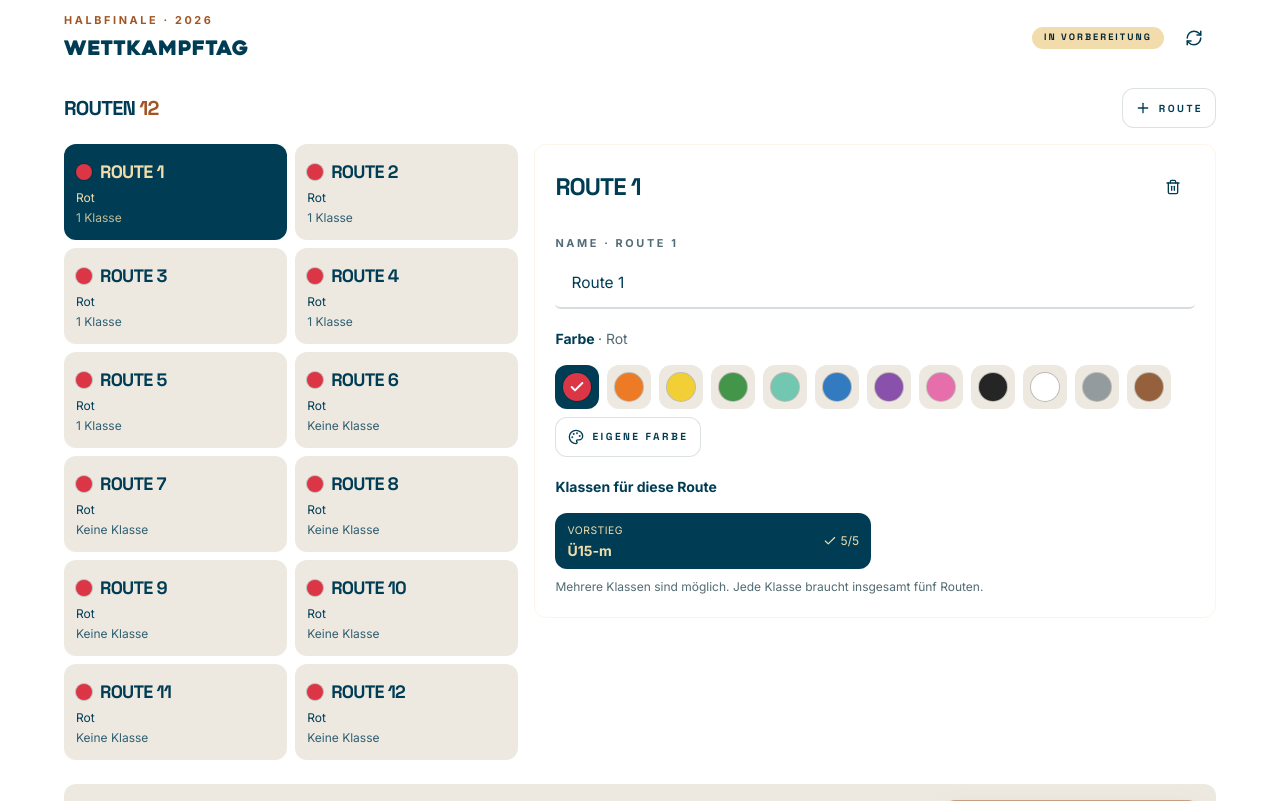
Test case: competition admin › limits a class to five routes and allows moving its assignment to another route
This screenshot has width=1280, height=801.
Later steps or results of the test are not shown.
Click the button with aria-label "Route 6 bearbeiten": (407, 400) x1=295 y1=352 x2=518 y2=448
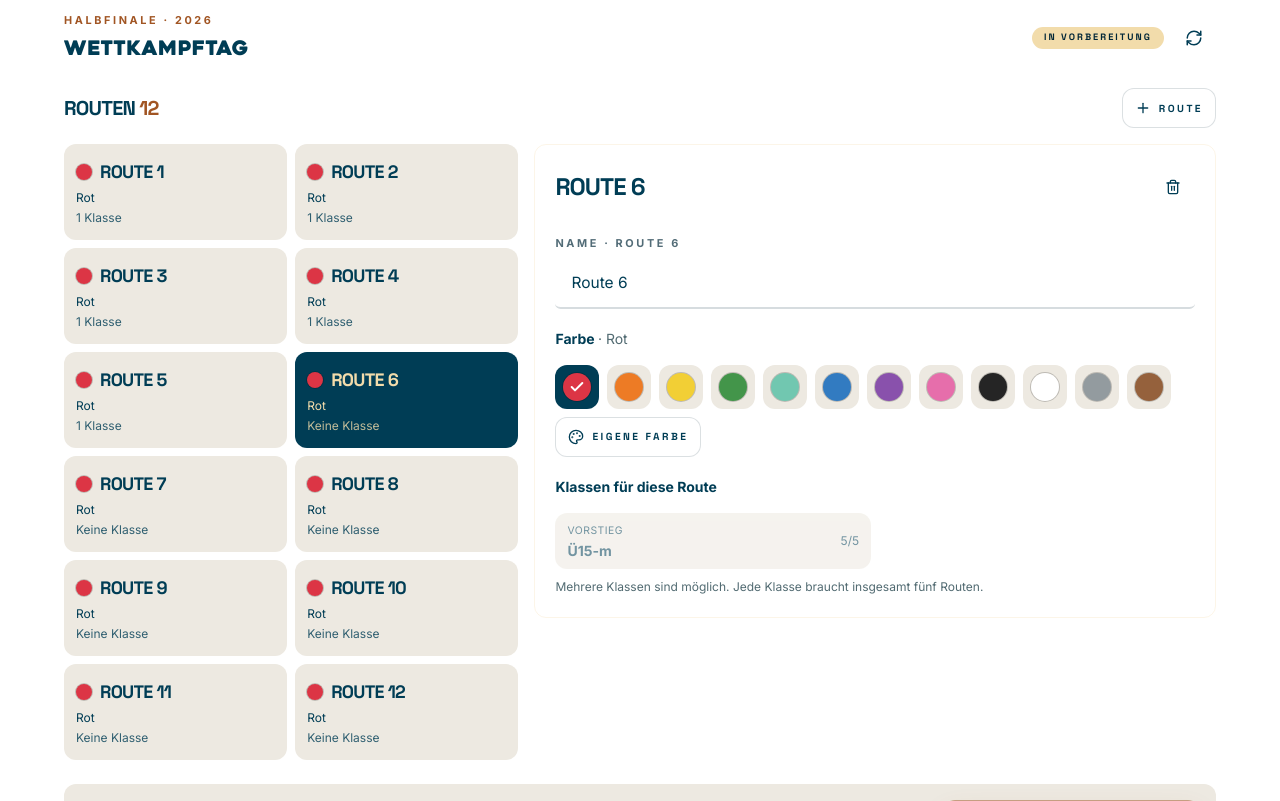
Result: the button with aria-label "Vorstieg Ü15-m für Route 6" is disabled at x1=555 y1=513 x2=871 y2=569
